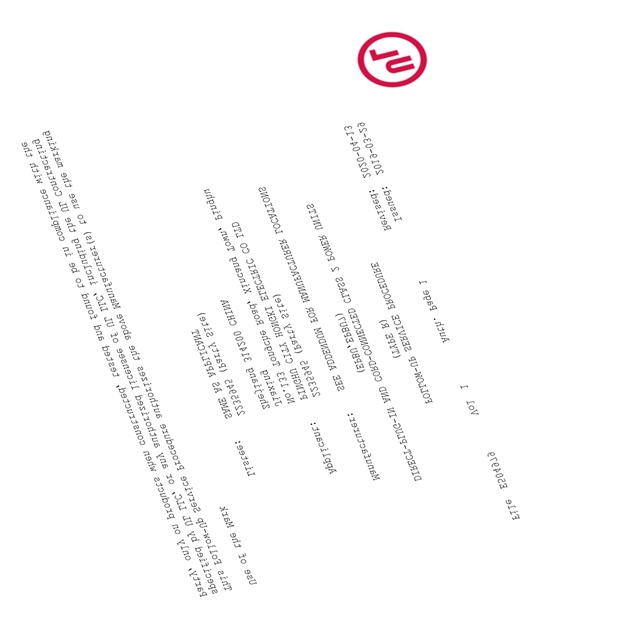ul: (357, 31, 427, 88)
